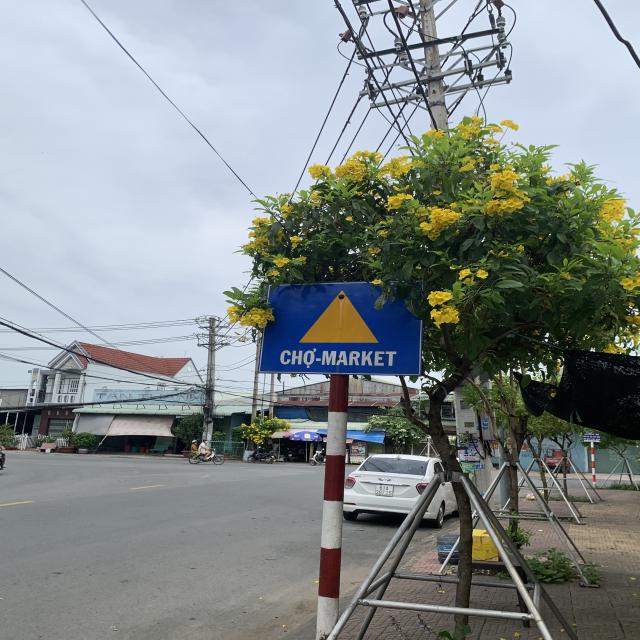Cho_Quay_Xe: (262, 283, 421, 375)
